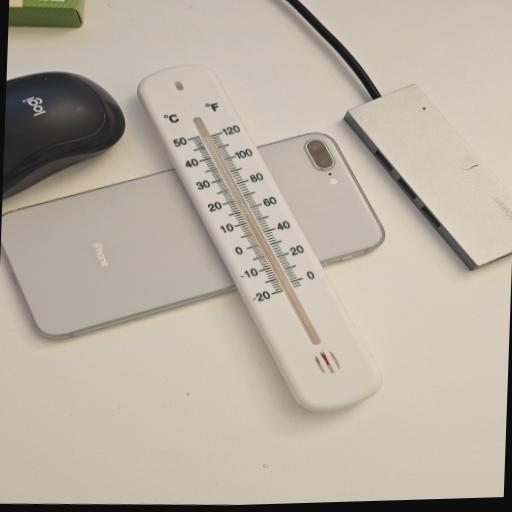thermometer: (118, 45, 406, 431)
